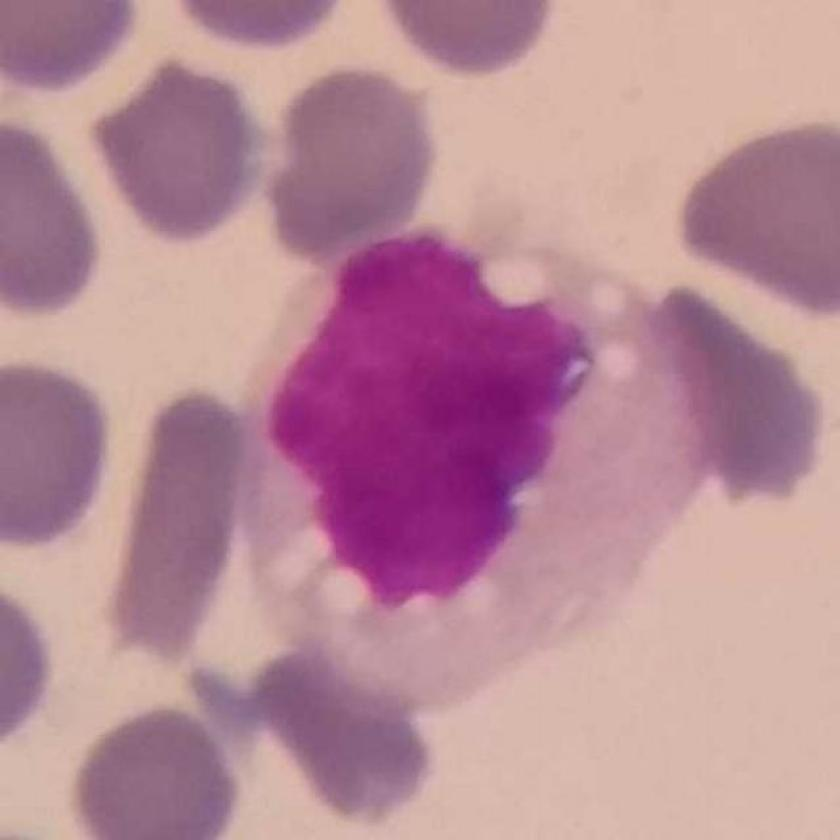monocyte: (241, 218, 723, 706)
